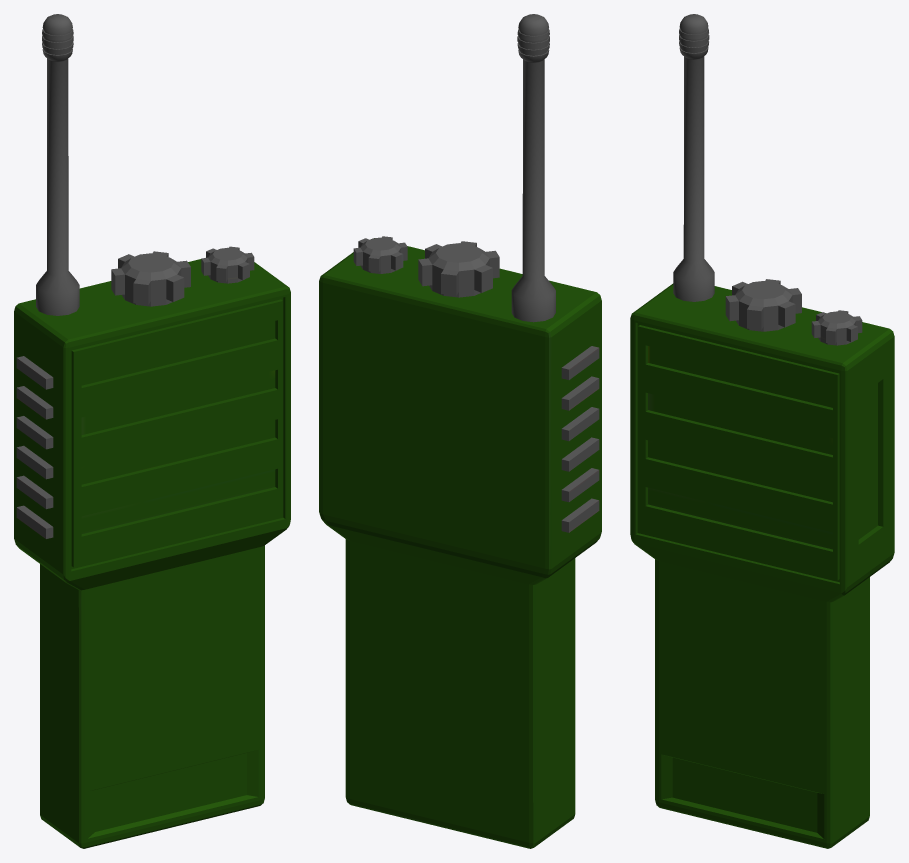
File: walkie talkie.fbx
The picture shows the model from 3 angles, left to right: view 1: azimuth 30°, elevation 25°; view 2: azimuth 150°, elevation 25°; view 3: azimuth 330°, elevation 25°; orthographic projection. The views are drawn at different scales.
Parts seen in each view (by area): view 1: walkie talkie; view 2: walkie talkie; view 3: walkie talkie.
Boxes of the visible parts, x1,y1,x2,y2 form: walkie talkie: [14, 14, 290, 848]; walkie talkie: [319, 14, 601, 848]; walkie talkie: [630, 14, 894, 848].
Size of the model in its own units: 11.22 by 36.88 by 4.27.
